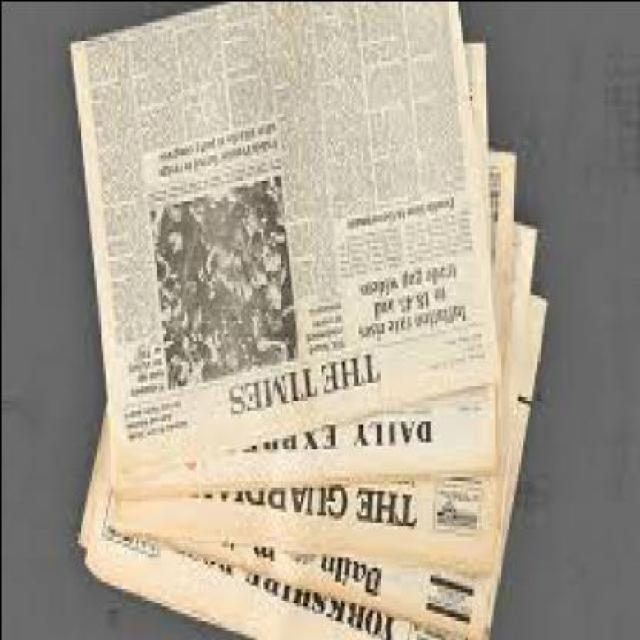PAPER: (72, 4, 503, 490), (86, 212, 542, 638), (118, 41, 500, 497), (128, 161, 524, 584), (78, 297, 551, 638)
